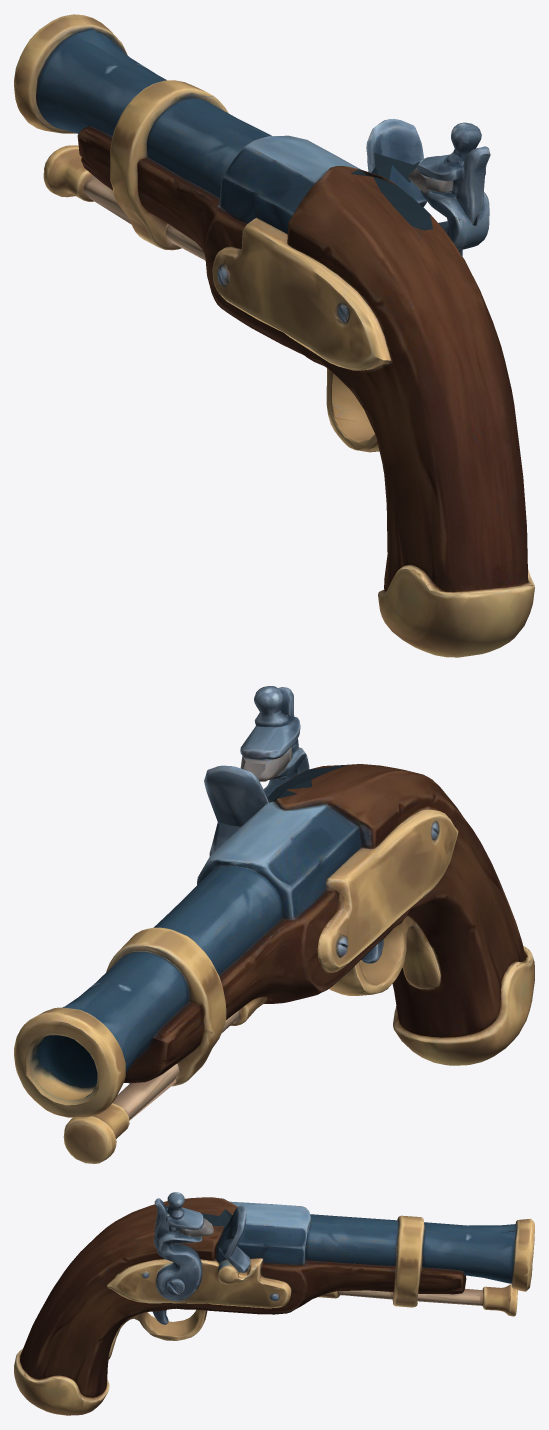
File: flintlock.glb
The picture shows the model from 3 angles, top to bottom: view 1: azimuth 30°, elevation 25°; view 2: azimuth 150°, elevation 25°; view 3: azimuth 270°, elevation 25°; orthographic projection. The views are drawn at different scales.
Visible parts, largest first — view 1: body, action; view 2: body, action; view 3: body, action.
Part boxes in pixels (box(x1,y1,x2,y2)): body: box(14, 14, 534, 657); action: box(346, 122, 490, 242); body: box(14, 755, 534, 1163); action: box(240, 686, 357, 802); body: box(14, 1197, 534, 1415); action: box(147, 1192, 234, 1243).
Size of the model in its own units: 0.3053 by 0.6809 by 1.3.
2 materials, 1 textured.
